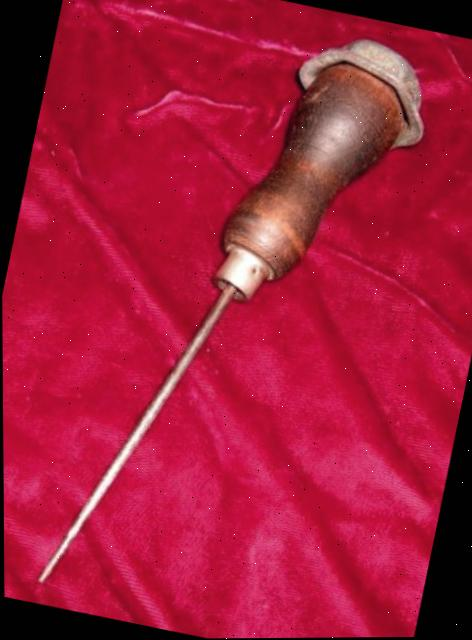ice pick: (32, 0, 441, 640)
